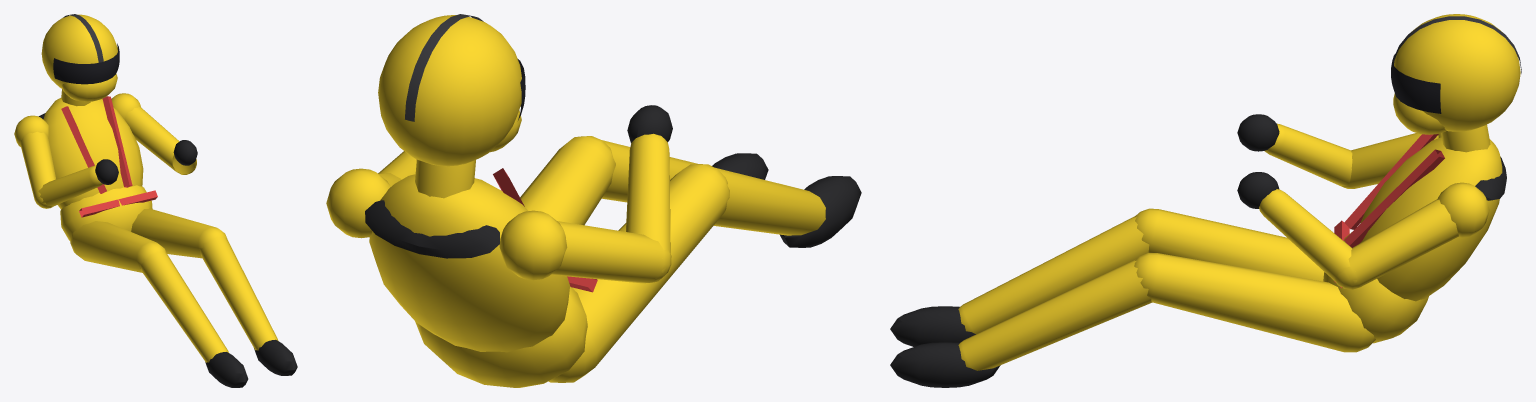
Rendered from limbotiti_caravan_driver.glb.
3 renders of one model, left to right at view 1: azimuth 30°, elevation 25°; view 2: azimuth 150°, elevation 25°; view 3: azimuth 270°, elevation 25°, orthographic. The views are drawn at different scales.
Visible parts, largest first — view 1: limbotiti_caravan_driver; view 2: limbotiti_caravan_driver; view 3: limbotiti_caravan_driver.
Part boxes in pixels (<box>): limbotiti_caravan_driver: <box>14,14,297,387</box>; limbotiti_caravan_driver: <box>326,14,861,387</box>; limbotiti_caravan_driver: <box>890,14,1521,387</box>.
Size of the model in its own units: 0.6484 by 0.907 by 1.48.
